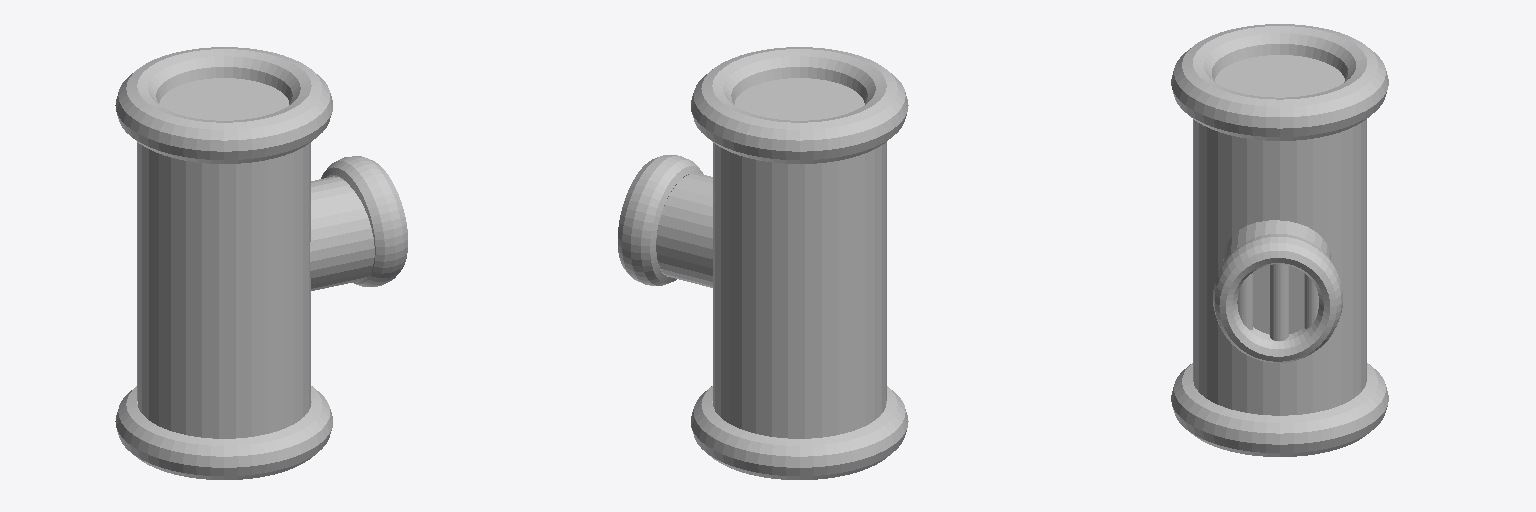
File: steampipe.obj
The picture shows the model from 3 angles: view 1: azimuth 30°, elevation 25°; view 2: azimuth 150°, elevation 25°; view 3: azimuth 270°, elevation 25°; orthographic projection.
Parts seen in each view (by area): view 1: Cylinder.001, Cylinder, Torus, Cylinder.002, Torus.001; view 2: Cylinder.001, Cylinder, Torus, Cylinder.002, Torus.001; view 3: Cylinder.001, Torus, Cylinder, Cylinder.002, Torus.001, Cylinder.004_Cylinder.005, Cylinder.003_Cylinder.004.
Part boxes in pixels (left/top/right/bottom): Cylinder.001: left=137, top=78, right=310, bottom=299; Cylinder: left=137, top=263, right=310, bottom=438; Torus: left=115, top=47, right=332, bottom=163; Cylinder.002: left=310, top=156, right=407, bottom=290; Torus.001: left=115, top=386, right=332, bottom=479; Cylinder.001: left=713, top=78, right=886, bottom=299; Cylinder: left=713, top=263, right=886, bottom=438; Torus: left=691, top=47, right=908, bottom=163; Cylinder.002: left=618, top=155, right=712, bottom=287; Torus.001: left=691, top=386, right=908, bottom=479; Cylinder.001: left=1193, top=55, right=1366, bottom=267; Torus: left=1171, top=24, right=1388, bottom=140; Cylinder: left=1193, top=244, right=1366, bottom=415; Cylinder.002: left=1213, top=220, right=1342, bottom=362; Torus.001: left=1171, top=363, right=1388, bottom=456; Cylinder.004_Cylinder.005: left=1237, top=273, right=1252, bottom=329; Cylinder.003_Cylinder.004: left=1304, top=273, right=1318, bottom=328.
Size of the model in its own units: 3.34 by 4.5 by 2.5.